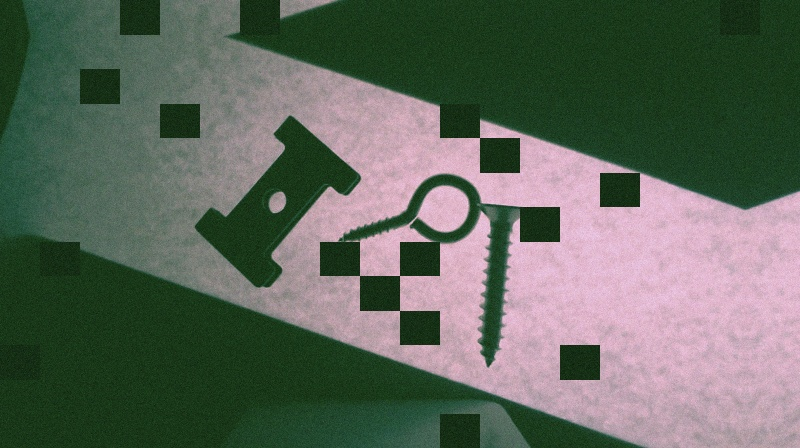O001: (338, 171, 481, 246)
O002: (192, 112, 365, 288)
S001: (471, 198, 531, 369)
